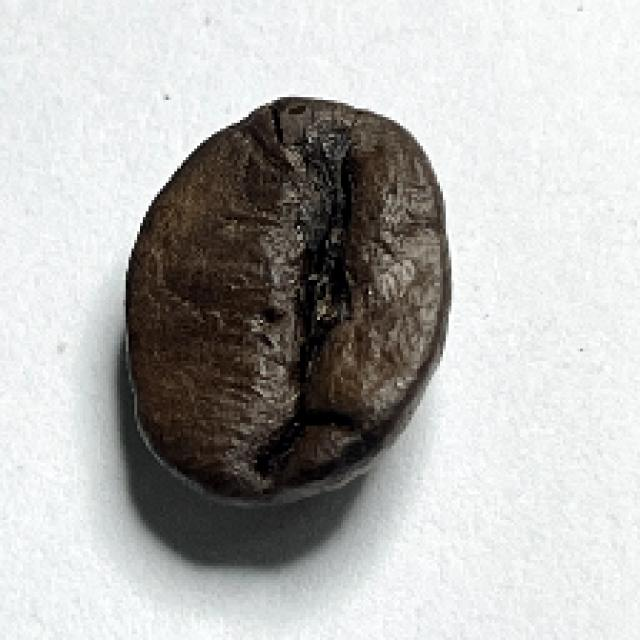bean: (118, 94, 455, 505)
